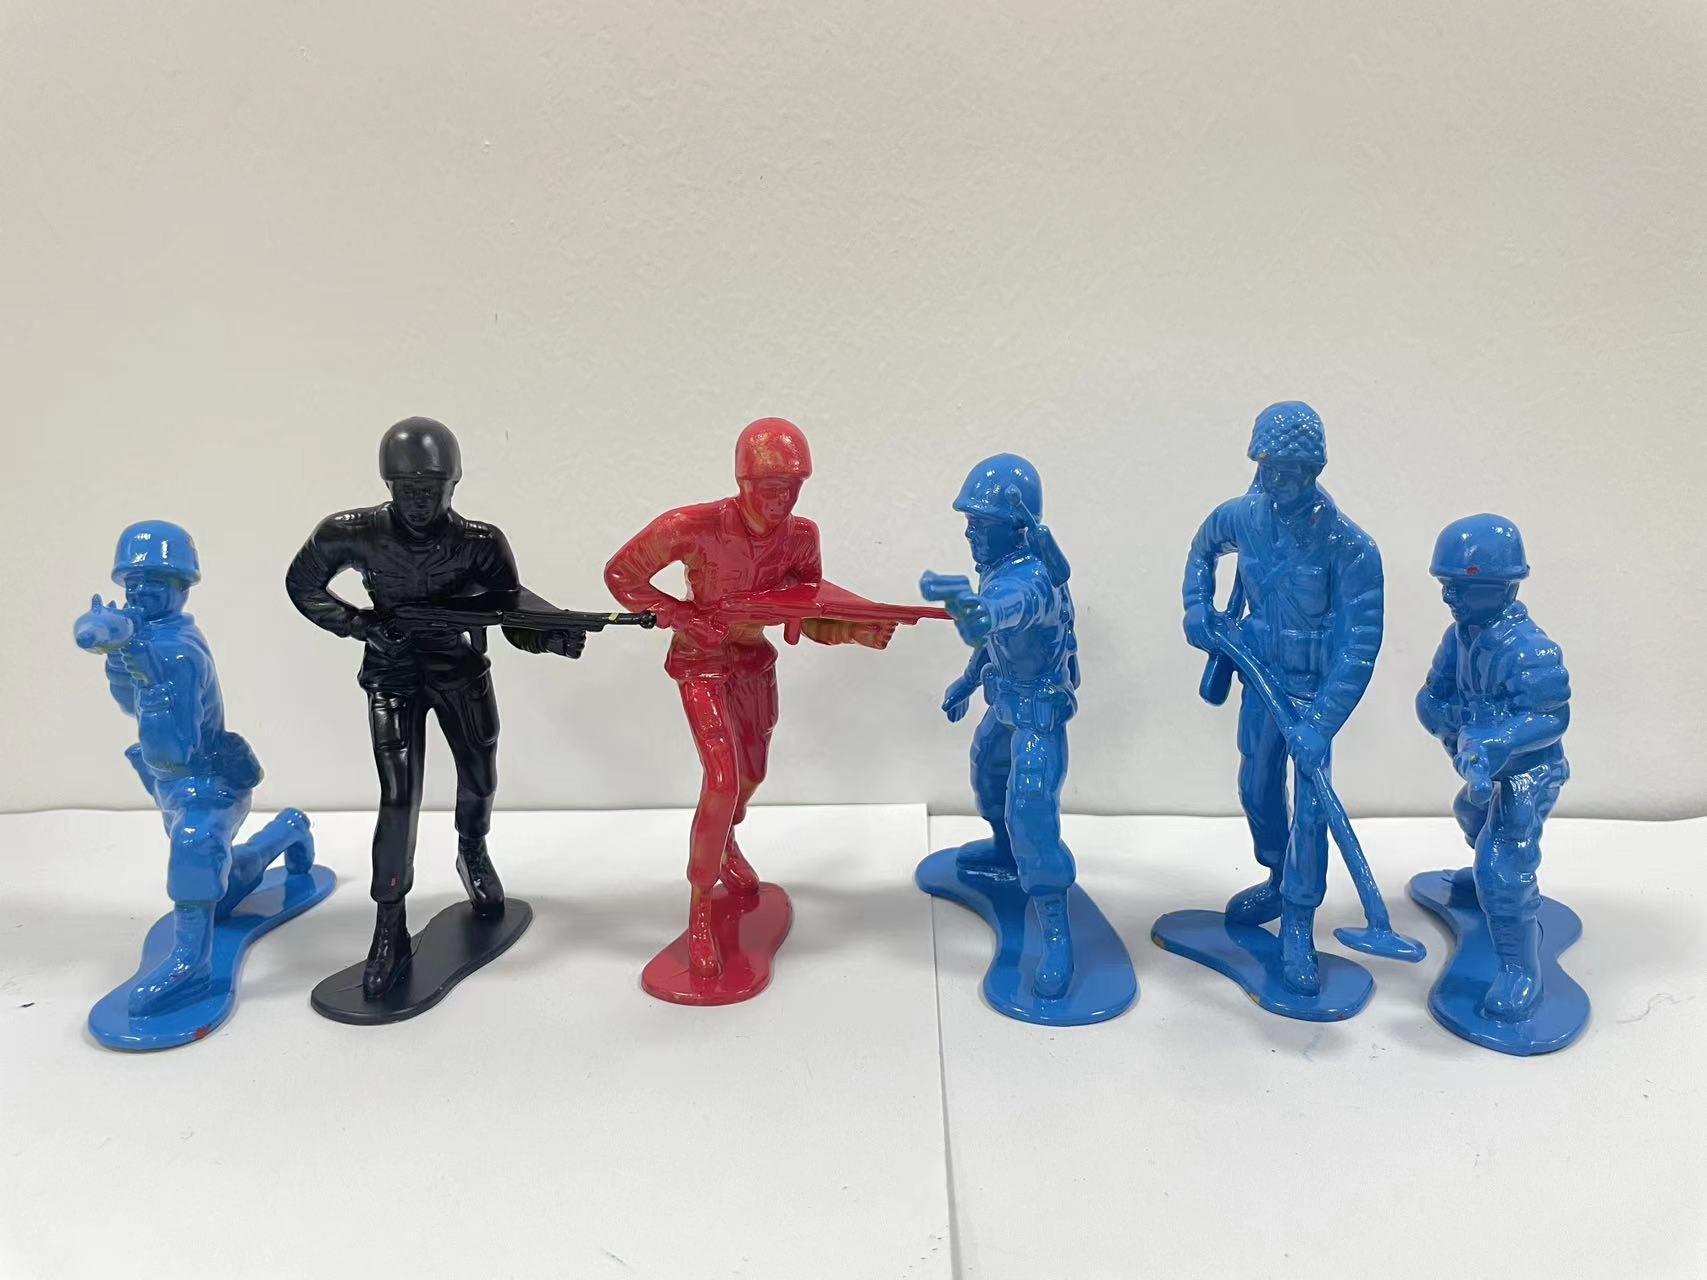black: (294, 403, 598, 1043)
blue: (13, 460, 333, 1072), (1152, 350, 1425, 1059), (1405, 479, 1671, 1125), (895, 428, 1142, 1074)
red: (620, 394, 901, 1077)
